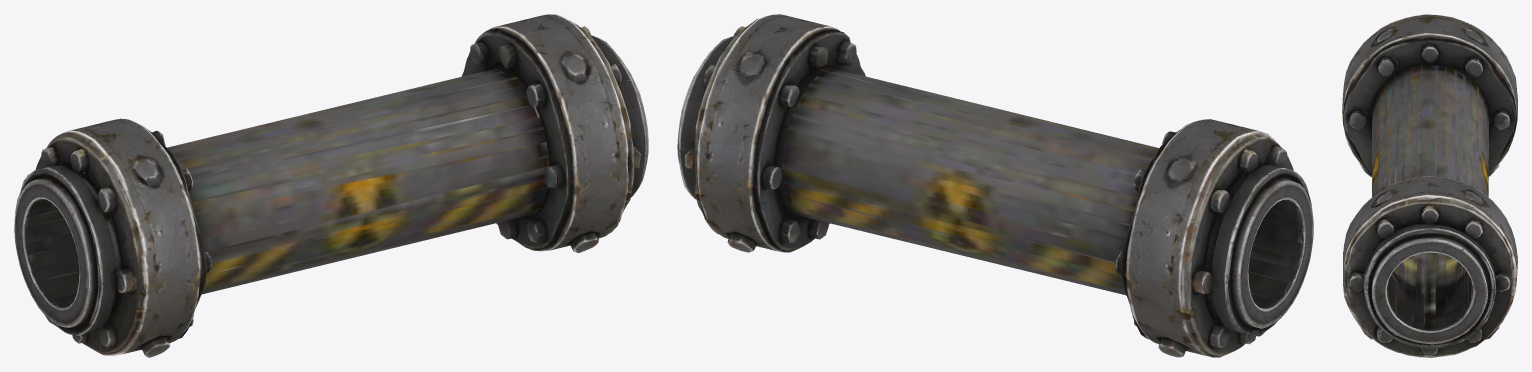
File: zone-reactor.glb
3 renders of one model, left to right at view 1: azimuth 30°, elevation 25°; view 2: azimuth 150°, elevation 25°; view 3: azimuth 270°, elevation 25°, orthographic. The views are drawn at different scales.
Size of the model in its own units: 1.91 by 0.6849 by 0.6693.
1 material, 1 textured.
